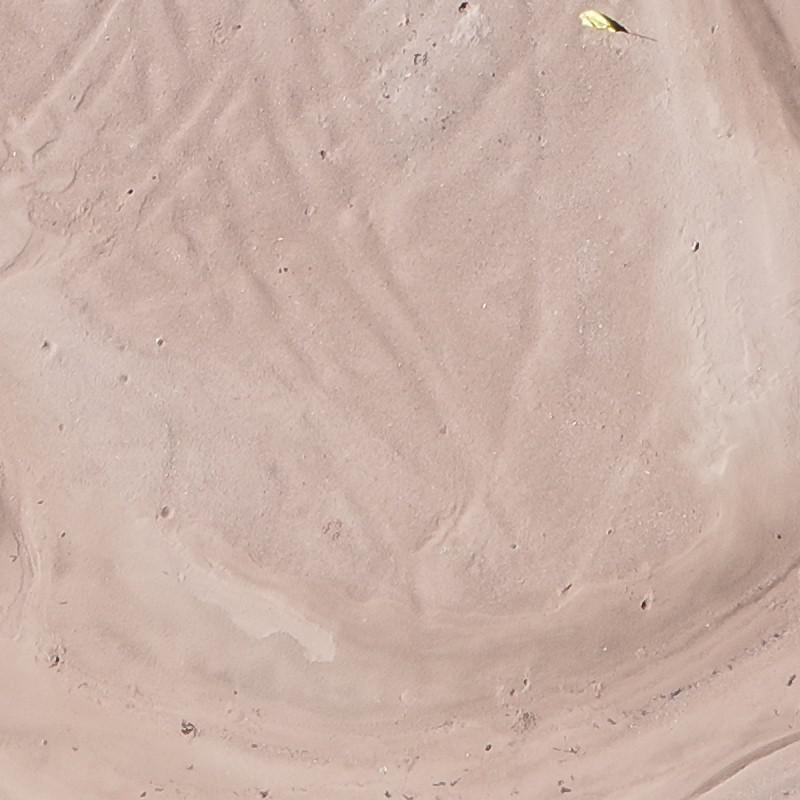coastal_litter: (575, 1, 632, 39)
